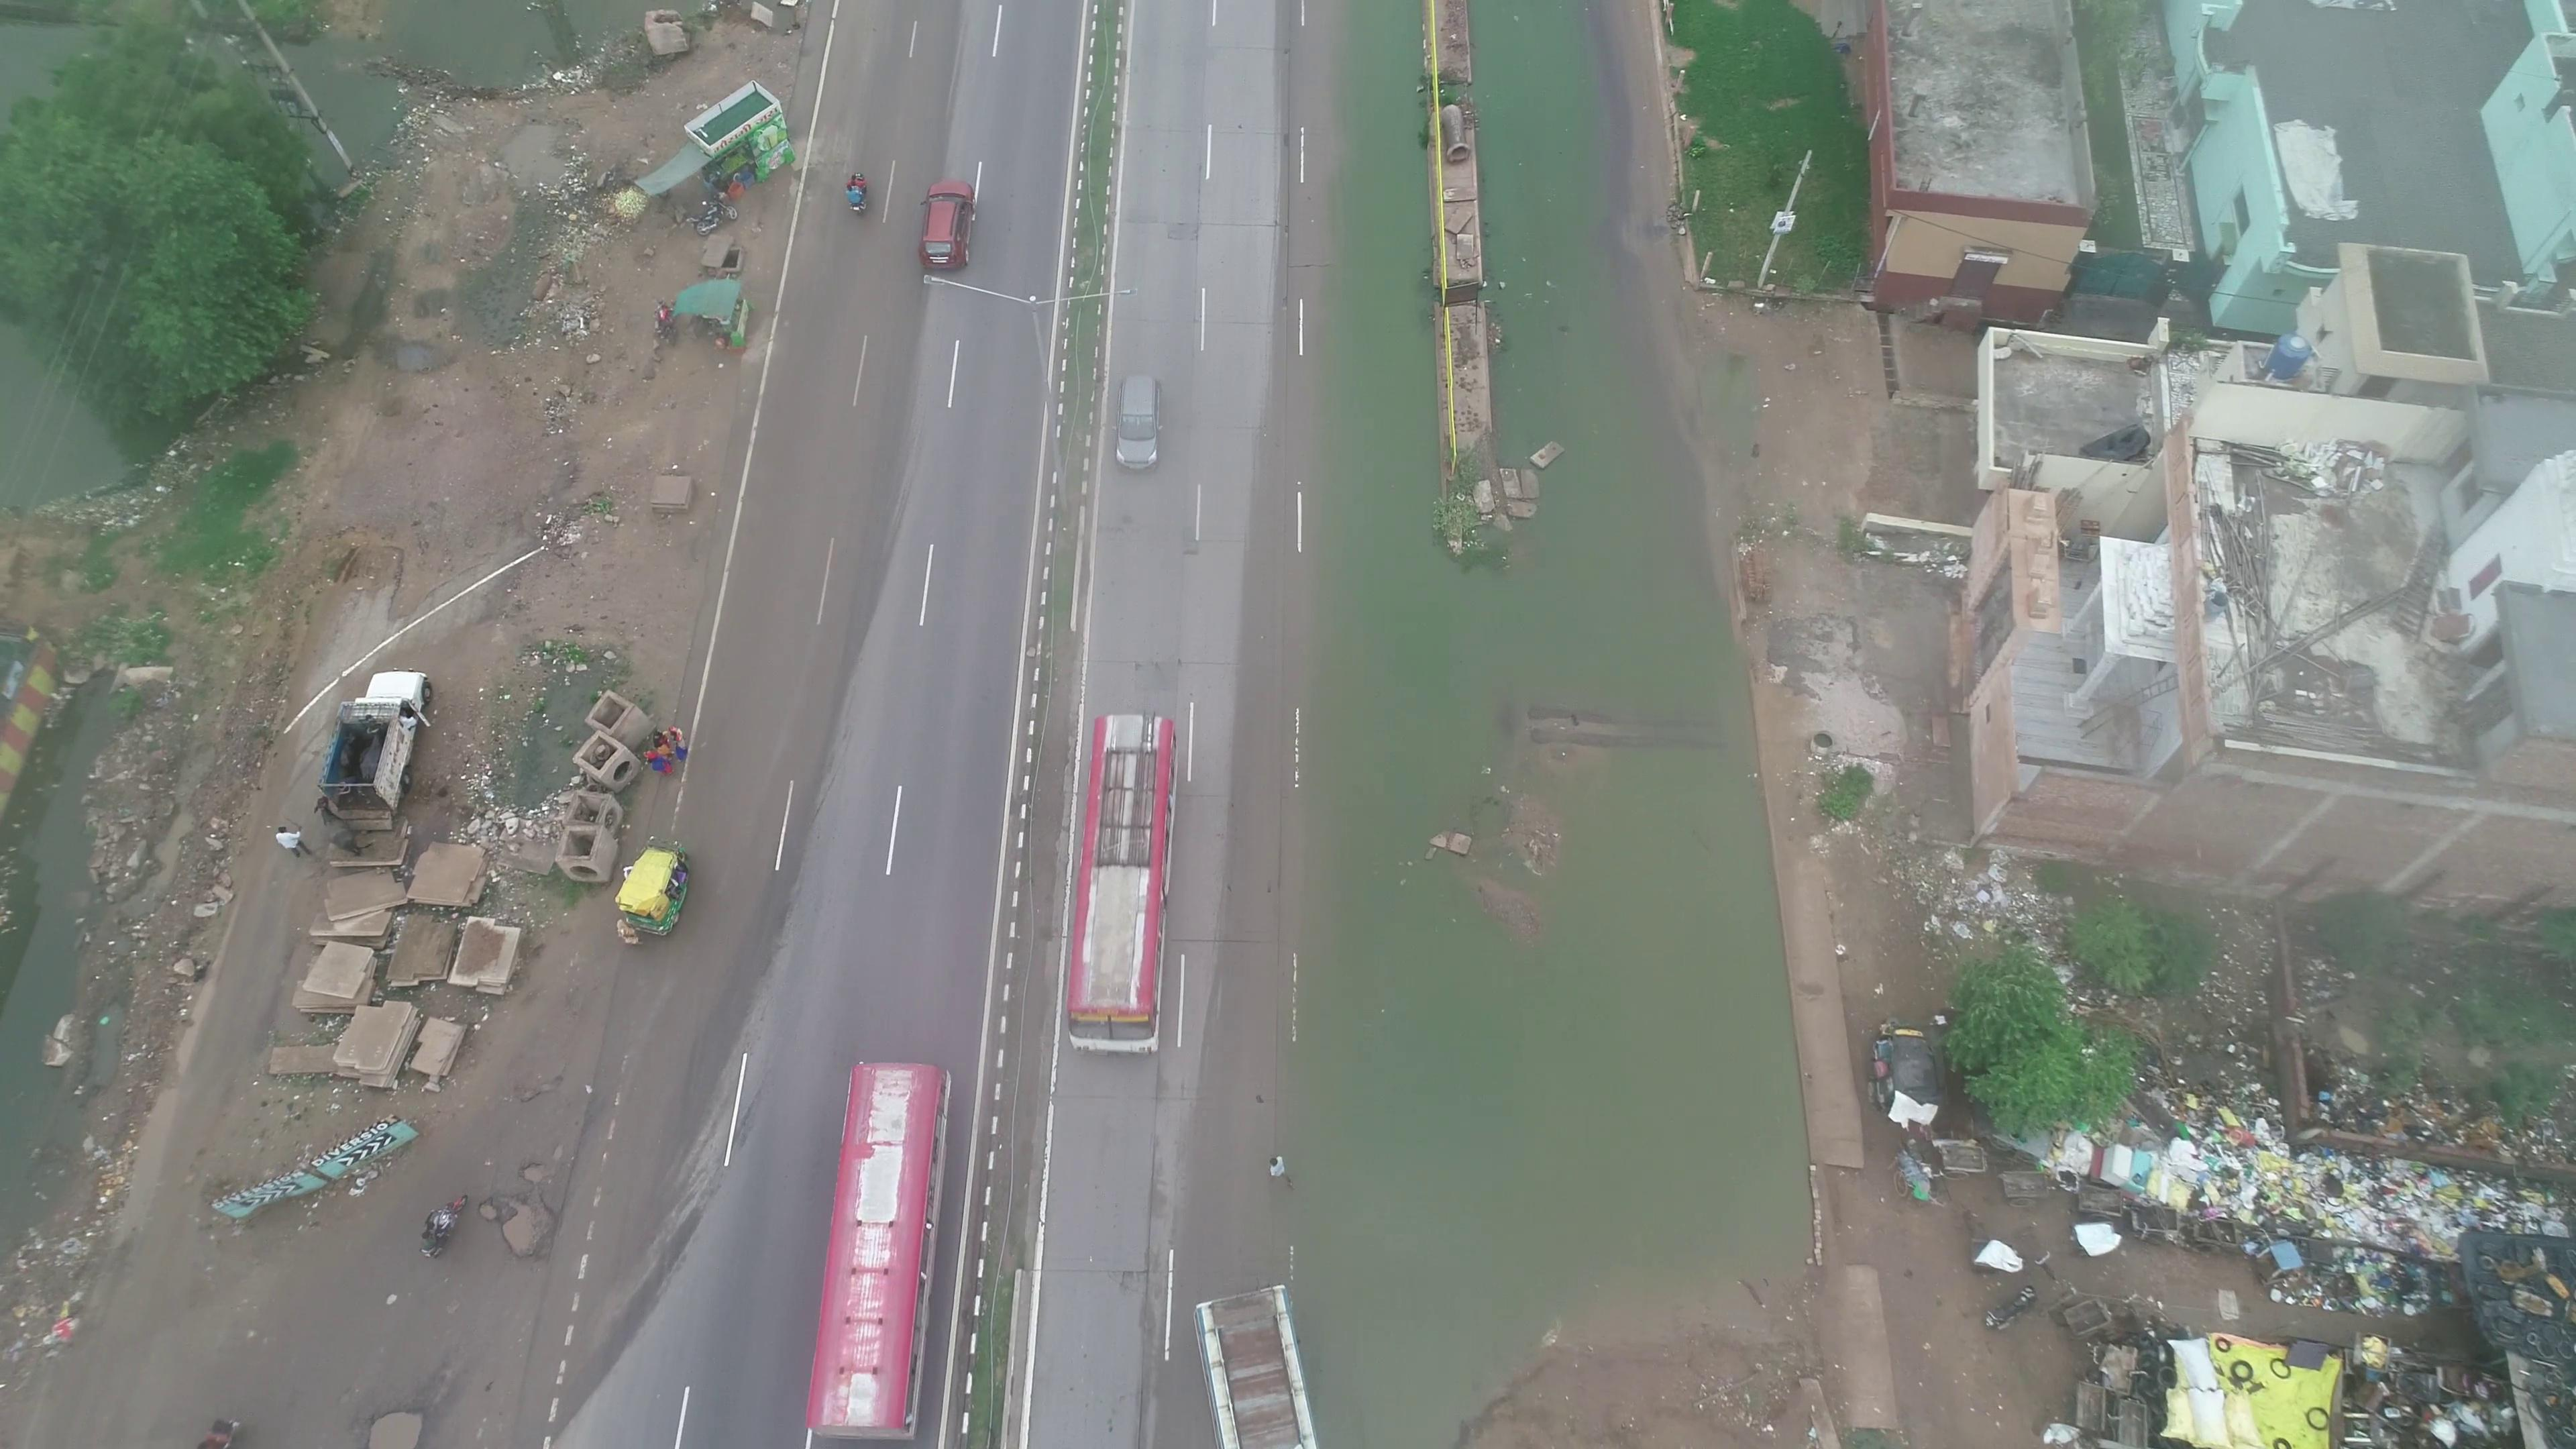Road_side_garbage: (2151, 1109, 2511, 1263)
Waterlogging: (1323, 501, 1746, 1261), (1477, 34, 1654, 458), (1306, 12, 1430, 439)
